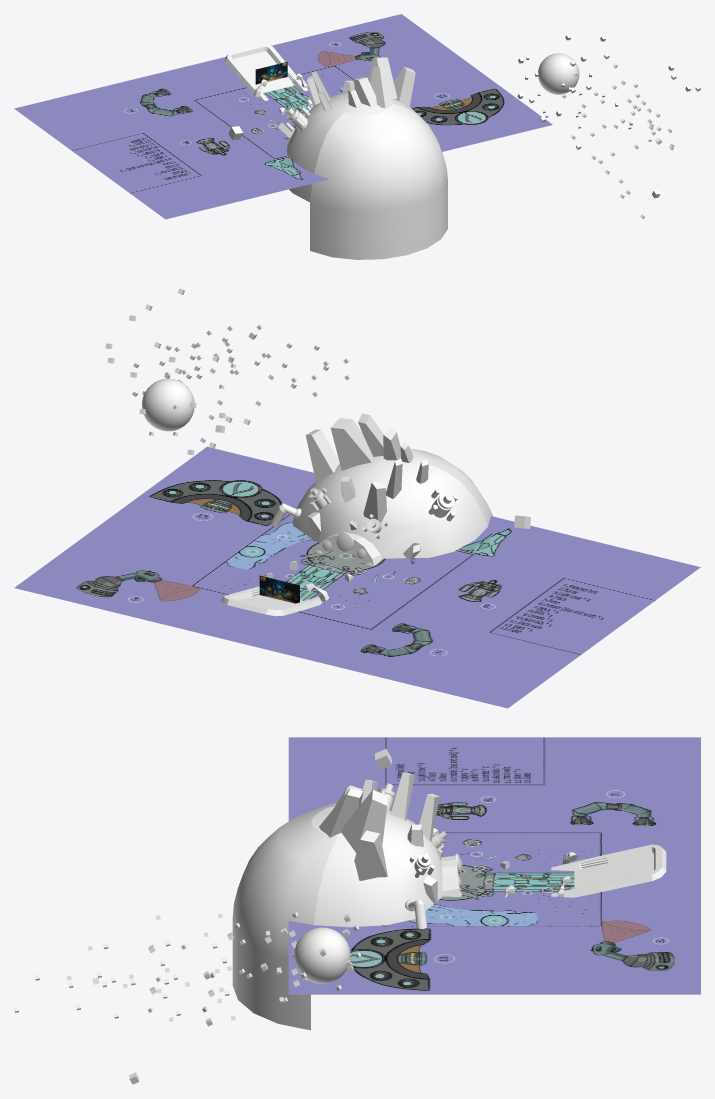
File: CTR.fbx
3 views of the same model, one above another, from view 1: azimuth 30°, elevation 25°; view 2: azimuth 150°, elevation 25°; view 3: azimuth 270°, elevation 25° (orthographic). The views are drawn at different scales.
Visible parts, largest first — view 1: ReferenceImage, BaseMesh, TrackWallsMesh, Planet, CrystalMesh8__6_, CrystalMesh8__8_, Plane, CrystalMesh8__5_, DrillMesh7__2_; view 2: ReferenceImage, BaseMesh, Planet, CrystalMesh8__7_, TrackWallsMesh, Gate, CrystalMesh8__8_, Plane, CrystalMesh8, CrystalMesh8__6_; view 3: ReferenceImage, BaseMesh, TrackWallsMesh, Planet, CrystalMesh8__7_, CrystalMesh8__8_, CrystalMesh8__6_, Gate, CrystalMesh8__1_, CrystalMesh8.
Boxes of the visible parts, x1,y1,x2,y2 form: ReferenceImage: [14, 14, 552, 219]; BaseMesh: [287, 92, 447, 259]; TrackWallsMesh: [225, 44, 308, 100]; Planet: [538, 53, 579, 94]; CrystalMesh8__6_: [370, 66, 391, 108]; CrystalMesh8__8_: [393, 67, 415, 106]; Plane: [255, 62, 287, 84]; CrystalMesh8__5_: [354, 77, 376, 107]; DrillMesh7__2_: [284, 107, 309, 131]; ReferenceImage: [14, 446, 700, 708]; BaseMesh: [293, 448, 493, 558]; Planet: [142, 378, 194, 431]; CrystalMesh8__7_: [330, 418, 373, 470]; TrackWallsMesh: [221, 586, 322, 616]; Gate: [314, 532, 382, 565]; CrystalMesh8__8_: [305, 429, 339, 484]; Plane: [259, 575, 299, 603]; CrystalMesh8: [363, 481, 386, 522]; CrystalMesh8__6_: [358, 413, 383, 456]; ReferenceImage: [288, 737, 700, 994]; BaseMesh: [232, 803, 442, 1030]; TrackWallsMesh: [551, 844, 666, 897]; Planet: [294, 927, 350, 983]; CrystalMesh8__7_: [341, 790, 387, 852]; CrystalMesh8__8_: [354, 830, 387, 880]; CrystalMesh8__6_: [319, 788, 363, 837]; Gate: [441, 853, 462, 896]; CrystalMesh8__1_: [390, 772, 414, 820]; CrystalMesh8: [418, 793, 439, 841].
Size of the model in its own units: 6113 by 1820 by 5392.
4 materials, 2 textured.
